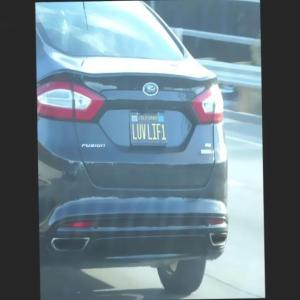Plate: (129, 108, 167, 147)
